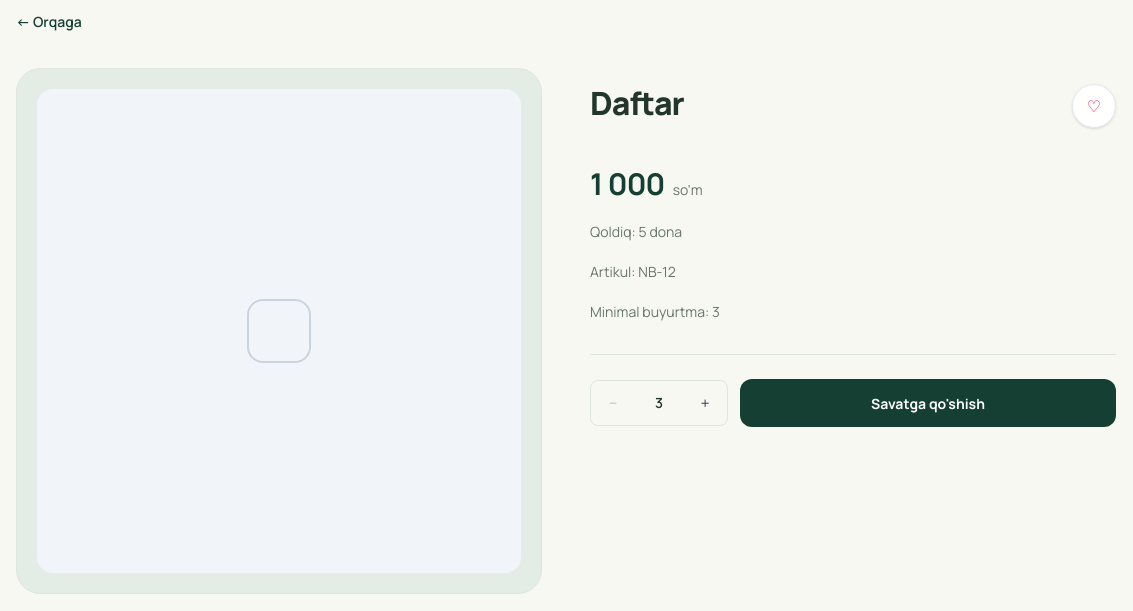
Test: cart action recovery › starts at minimum quantity and stops at available stock on the detail page
Expected: the text "3" is shown, [655,393,663,412]
Expected: the button named "miqdorni kamaytirish" is disabled, [591,381,635,425]
Click the button named "miqdorni oshirish".
click(705, 403)  # box [683,381,727,425]
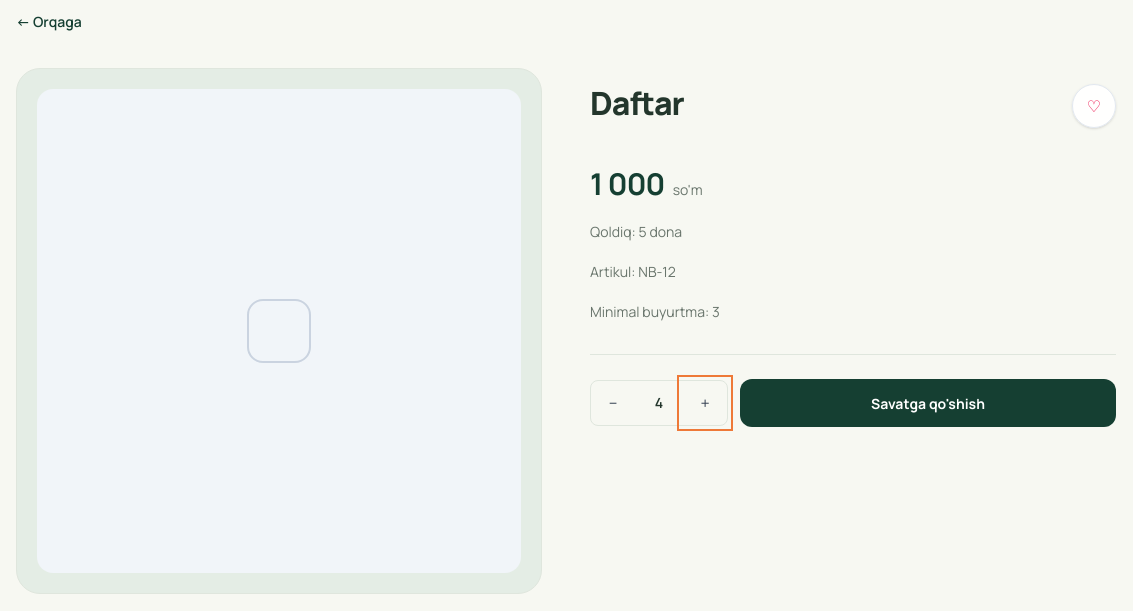
Click the button named "miqdorni oshirish".
click(705, 403)  # box [683,381,727,425]
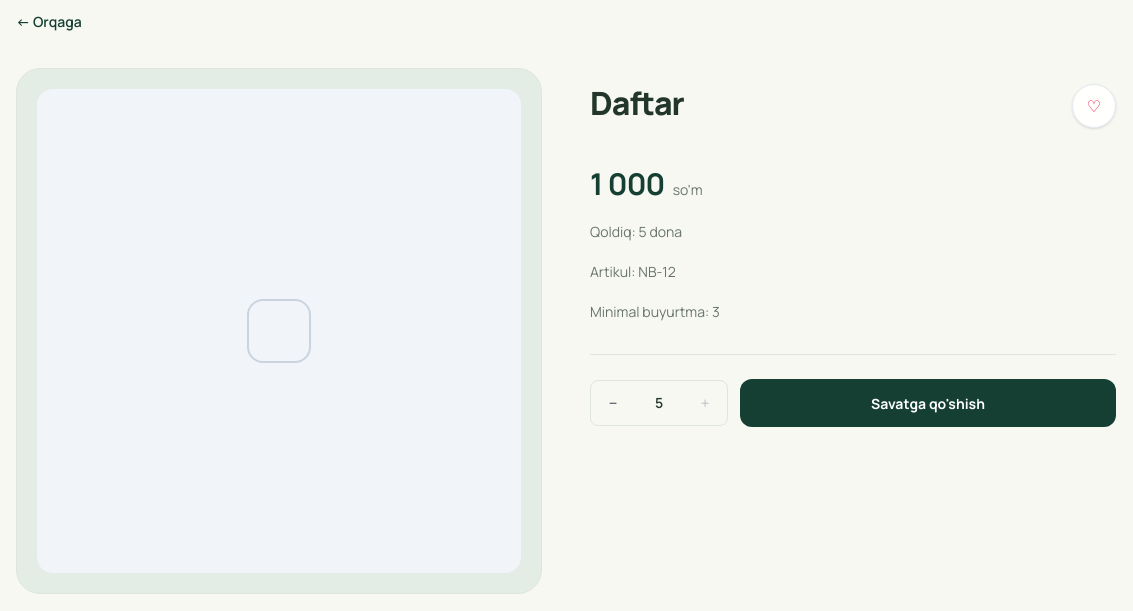
Expected: the text "5" is shown, [655,393,663,412]
